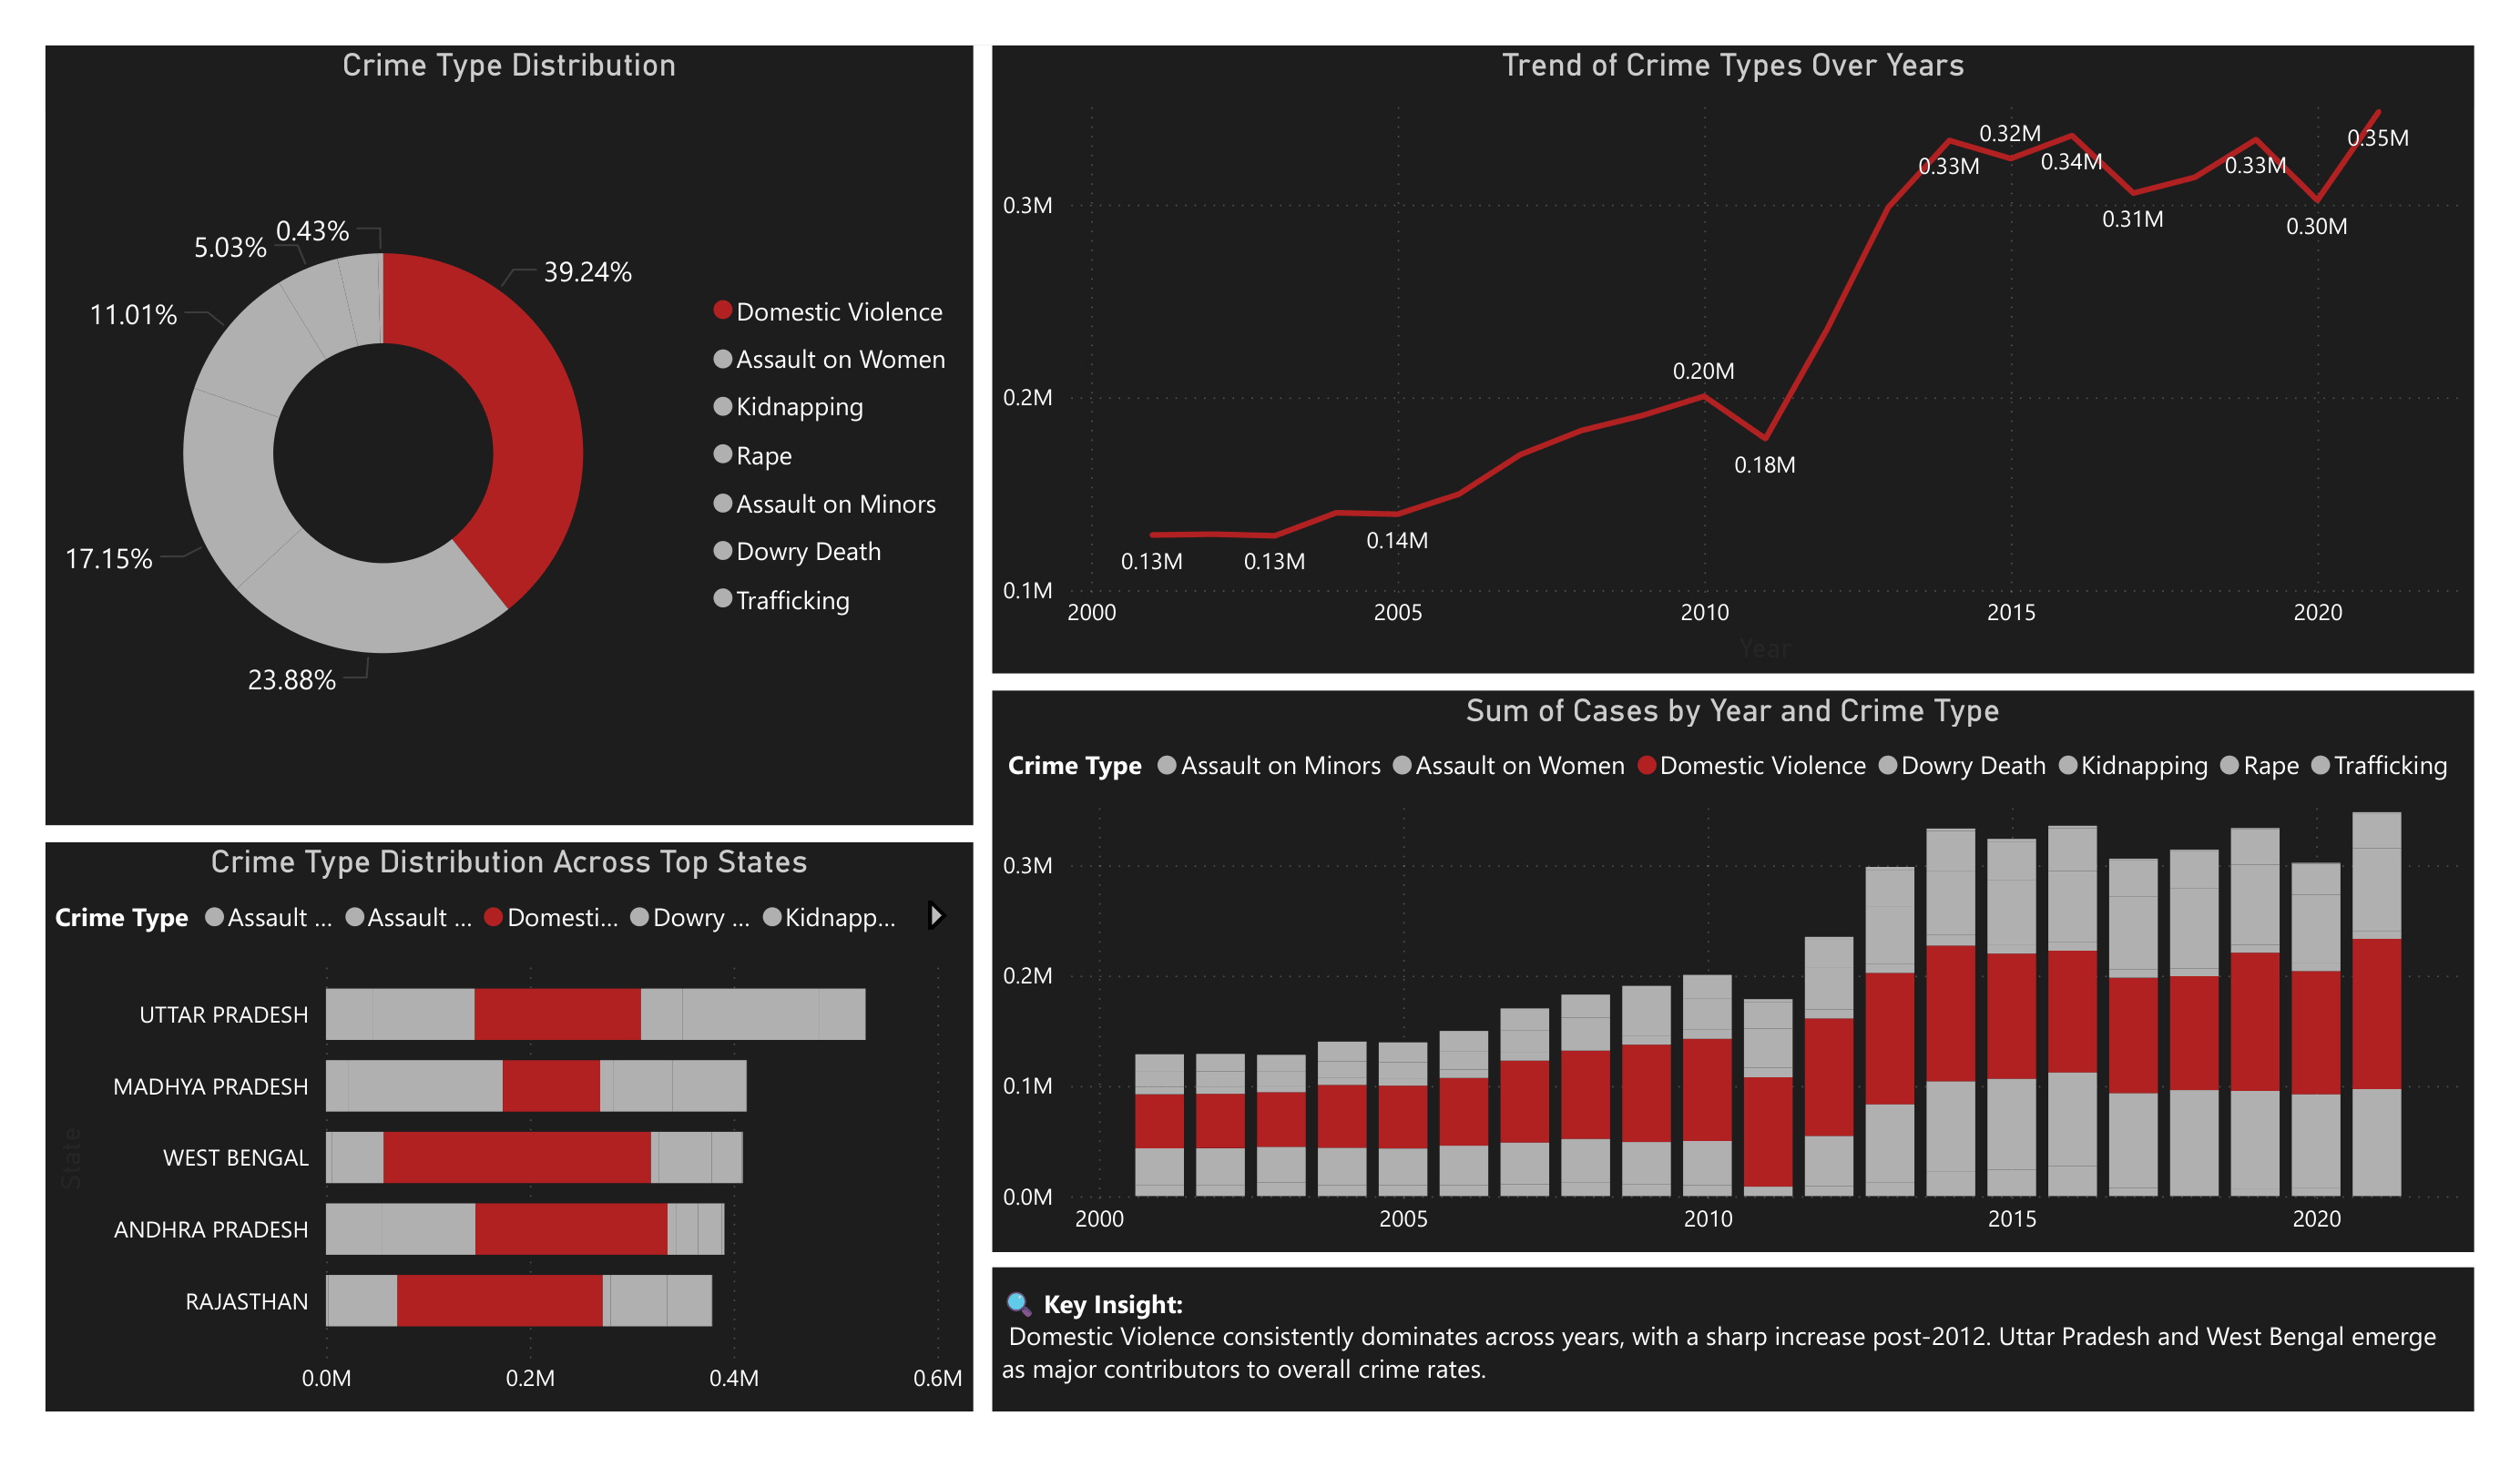

Layout of this report page (visuals, bound fields, positions):
{"tool":"powerbi","page":{"name":"Crime Analysis","canvas":[1280,720],"ordinal":1},"visuals":[{"type":"donutChart","title":"Crime Type Distribution","fields":{"Category":["CrimesOnWomenData.Crime Type"],"Y":["Sum(CrimesOnWomenData.Cases)"]},"box":[0,0,488.9,410.5],"z":0},{"type":"lineChart","title":"Trend of Crime Types Over Years","fields":{"Category":["CrimesOnWomenData.Year"],"Y":["Sum(CrimesOnWomenData.Cases)"]},"box":[498.8,0,781.2,330.9],"z":1000},{"type":"barChart","title":"Crime Type Distribution Across Top States","fields":{"Category":["CrimesOnWomenData.State"],"Y":["Sum(CrimesOnWomenData.Cases)"],"Series":["CrimesOnWomenData.Crime Type"]},"box":[0,420.5,488.9,299.8],"z":2000},{"type":"columnChart","fields":{"Category":["CrimesOnWomenData.Year"],"Y":["Sum(CrimesOnWomenData.Cases)"],"Series":["CrimesOnWomenData.Crime Type"]},"box":[498.8,339.6,781.2,296.1],"z":3000},{"type":"textbox","box":[498.8,644.4,781.2,75.9],"z":4000}]}

Visuals, with their boxes on the page's 1280x720 design canvas (x1, y1, x2, y2). These are canvas units, not pixel positions in the 2520x1457 screenshot, which may show the page scaled, cropped or inside an application window:
"Crime Type Distribution" donutChart: [left=0, top=0, right=489, bottom=410]
"Trend of Crime Types Over Years" lineChart: [left=499, top=0, right=1280, bottom=331]
"Crime Type Distribution Across Top States" barChart: [left=0, top=420, right=489, bottom=720]
columnChart - CrimesOnWomenData.Year x Sum(CrimesOnWomenData.Cases): [left=499, top=340, right=1280, bottom=636]
textbox: [left=499, top=644, right=1280, bottom=720]
